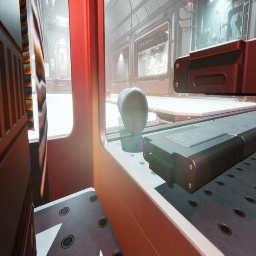0: (32, 73, 35, 91), (31, 76, 31, 77)
FireAlarm ,: (130, 67, 132, 71)
FirstAidBox ,: (106, 90, 110, 98), (110, 90, 114, 94), (60, 76, 64, 79)
NitrogenTank ,: (117, 87, 148, 135)
SafetySwitchPanel ,: (50, 59, 54, 70)
